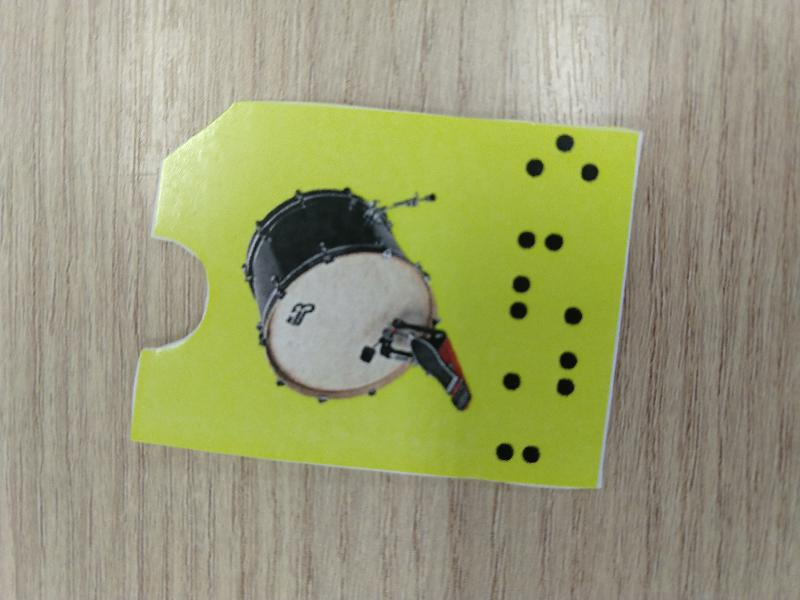bumbo: (126, 94, 643, 493)
